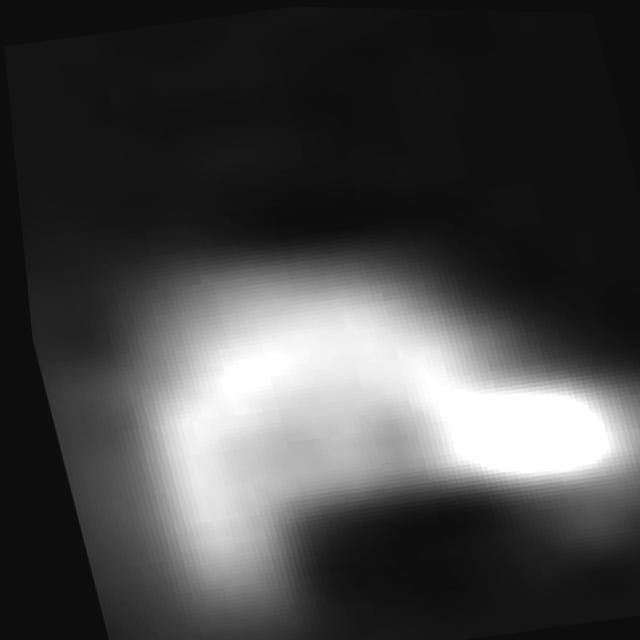person: (14, 166, 640, 640)
